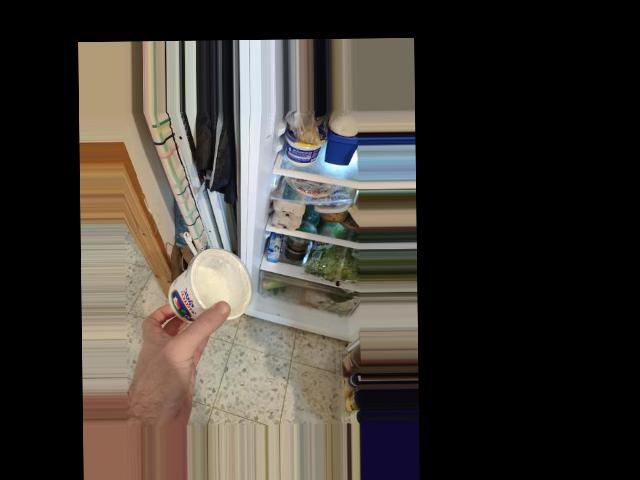cotage: (164, 248, 248, 327)
